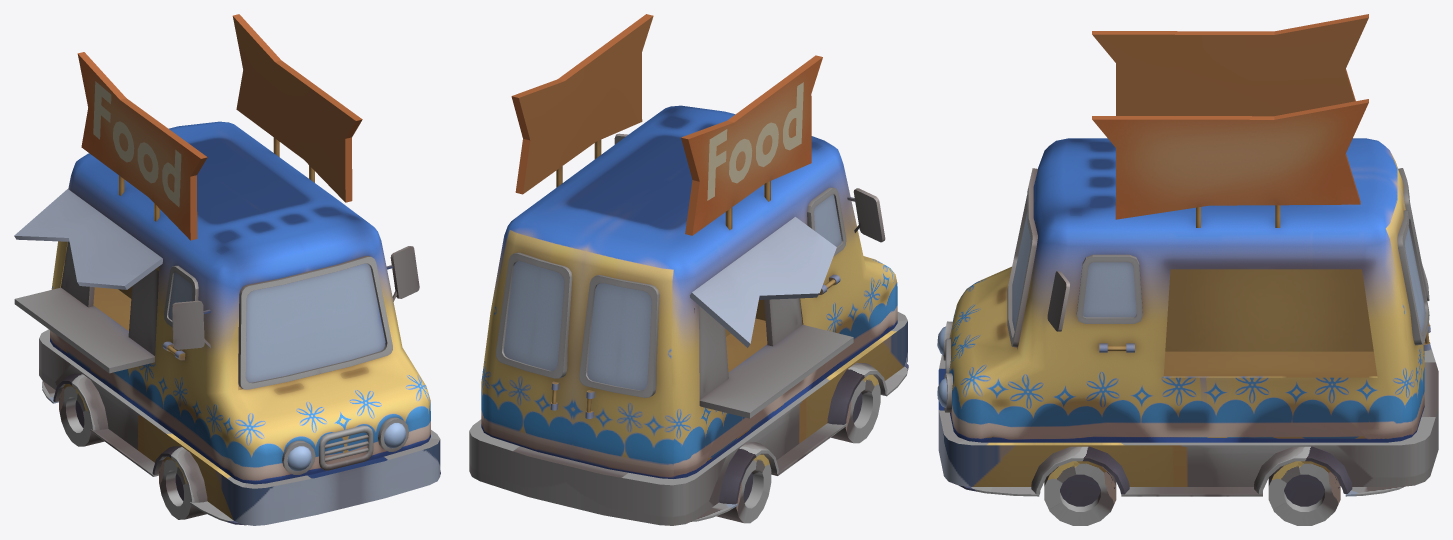
Rendered from food_truck_1.fbx.
The picture shows the model from 3 angles, left to right: view 1: azimuth 30°, elevation 25°; view 2: azimuth 150°, elevation 25°; view 3: azimuth 270°, elevation 25°; orthographic projection. The views are drawn at different scales.
Visible parts, largest first — view 1: Cube.305, Cube.306, Cube.311, Cube.293, Cube.308, Cube.297, Cube.274, Cube.299, Plane.049, Text.004, Cylinder.151, Cylinder.153 (+6 smaller); view 2: Cube.305, Cube.306, Cube.311, Cube.303, Cube.308, Cube.297, Cube.299, Text.004, Cylinder.153, Cylinder.152, Cube.301, Circle.074 (+3 smaller); view 3: Cube.305, Cube.306, Cube.311, Cube.301, Cylinder.152, Cylinder.153, Cube.303, Cube.274, Circle.073, Circle.074, Cube.313, Cube.293 (+2 smaller).
Boxes of the visible parts, x1,y1,x2,y2 form: Cube.305: [50, 121, 430, 484]; Cube.306: [77, 14, 362, 240]; Cube.311: [39, 329, 440, 525]; Cube.293: [245, 263, 385, 382]; Cube.308: [14, 189, 162, 289]; Cube.297: [14, 287, 154, 373]; Cube.274: [238, 256, 392, 389]; Cube.299: [61, 241, 158, 355]; Plane.049: [172, 246, 419, 349]; Text.004: [93, 81, 181, 207]; Cylinder.151: [282, 417, 408, 474]; Cylinder.153: [59, 384, 104, 446]; Cube.305: [481, 105, 897, 478]; Cube.306: [511, 14, 822, 235]; Cube.311: [469, 312, 907, 525]; Cube.303: [496, 252, 659, 397]; Cube.308: [690, 217, 836, 347]; Cube.297: [699, 325, 853, 418]; Cube.299: [694, 298, 802, 399]; Text.004: [707, 82, 803, 200]; Cylinder.153: [716, 454, 771, 523]; Cylinder.152: [831, 374, 880, 443]; Cube.301: [807, 187, 846, 256]; Circle.074: [719, 442, 778, 504]; Cube.305: [949, 138, 1424, 442]; Cube.306: [1092, 14, 1368, 227]; Cube.311: [938, 341, 1438, 486]; Cube.301: [1076, 254, 1142, 323]; Cylinder.152: [1044, 461, 1116, 525]; Cylinder.153: [1268, 461, 1340, 525]; Cube.303: [1397, 168, 1429, 345]; Cube.274: [1007, 168, 1037, 347]; Circle.073: [1031, 446, 1129, 494]; Circle.074: [1254, 446, 1352, 494]; Cube.313: [1121, 487, 1262, 496]; Cube.293: [1012, 212, 1030, 330].
Size of the model in its own units: 2.43 by 3.18 by 3.56.
